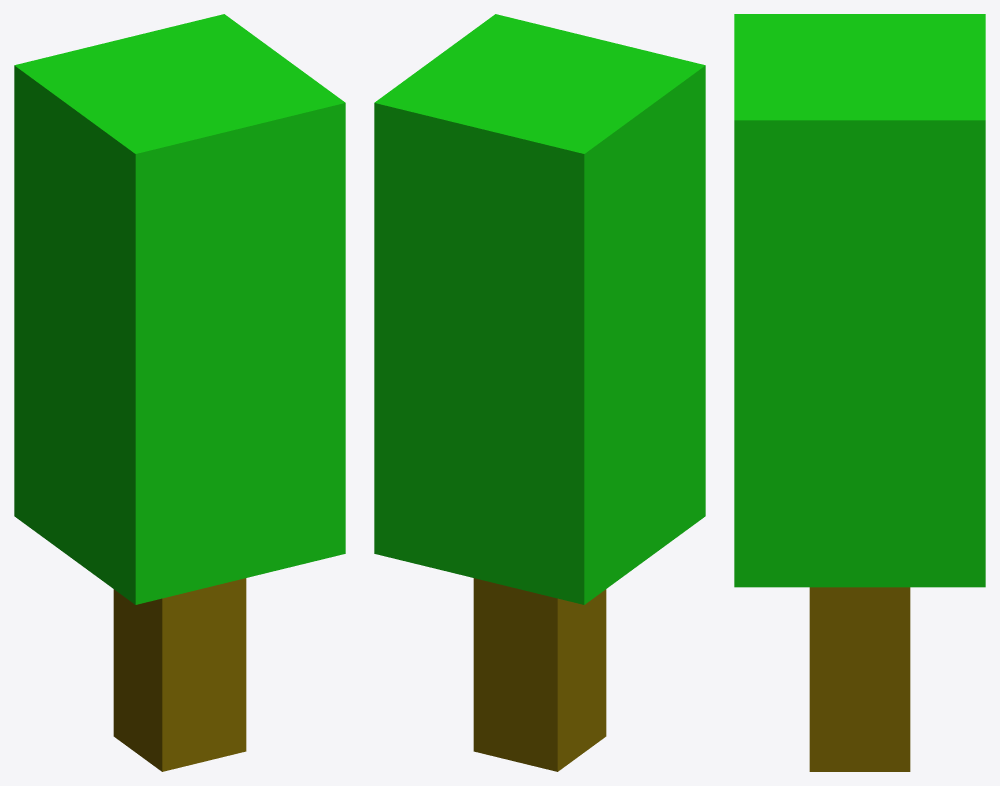
The model's file is Tree_0.fbx.
3 views of the same model, side by side, from view 1: azimuth 30°, elevation 25°; view 2: azimuth 150°, elevation 25°; view 3: azimuth 270°, elevation 25° (orthographic). The views are drawn at different scales.
Parts seen in each view (by area): view 1: Tree_0; view 2: Tree_0; view 3: Tree_0.
Boxes of the visible parts, left/top/right/bottom form: Tree_0: left=14, top=14, right=345, bottom=771; Tree_0: left=374, top=14, right=705, bottom=771; Tree_0: left=734, top=14, right=985, bottom=771.
Size of the model in its own units: 20 by 60 by 20.
Materials: 1 (1 with a texture image).
